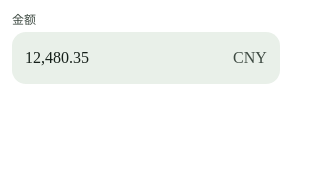
Scenario: AmountField › thousands separators appear only once the field is at rest
Focus the field with test id "amt" at x=125, y=58, box [25, 49, 225, 67]
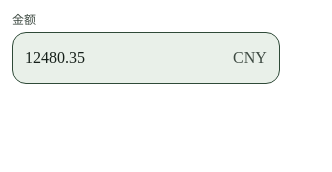
Result: the field with test id "amt" holds "12480.35" at [25, 49, 225, 67]
